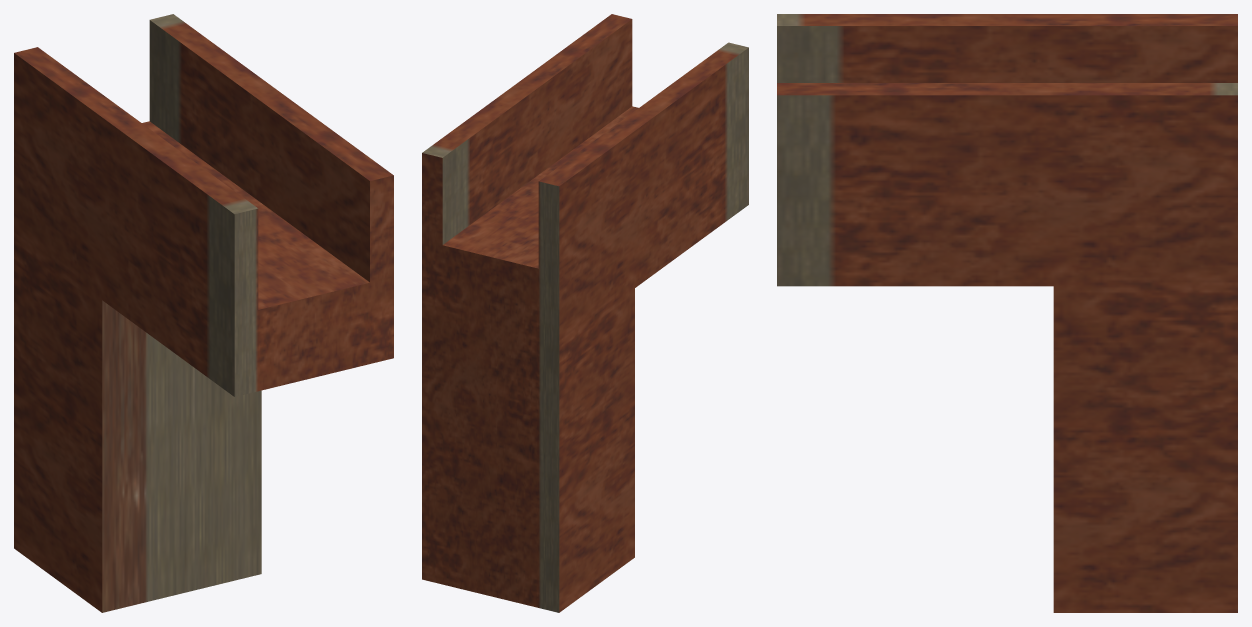
File: onsenTap.fbx
3 renders of one model, left to right at view 1: azimuth 30°, elevation 25°; view 2: azimuth 150°, elevation 25°; view 3: azimuth 270°, elevation 25°, orthographic. The views are drawn at different scales.
Parts seen in each view (by area): view 1: pCube30; view 2: pCube30; view 3: pCube30.
Part boxes in pixels (x1,y1,x2,y2): pCube30: (14,14,393,612); pCube30: (422,14,748,612); pCube30: (777,14,1237,612).
Bounding box in the file's own units: 86.36 × 257 × 207.
